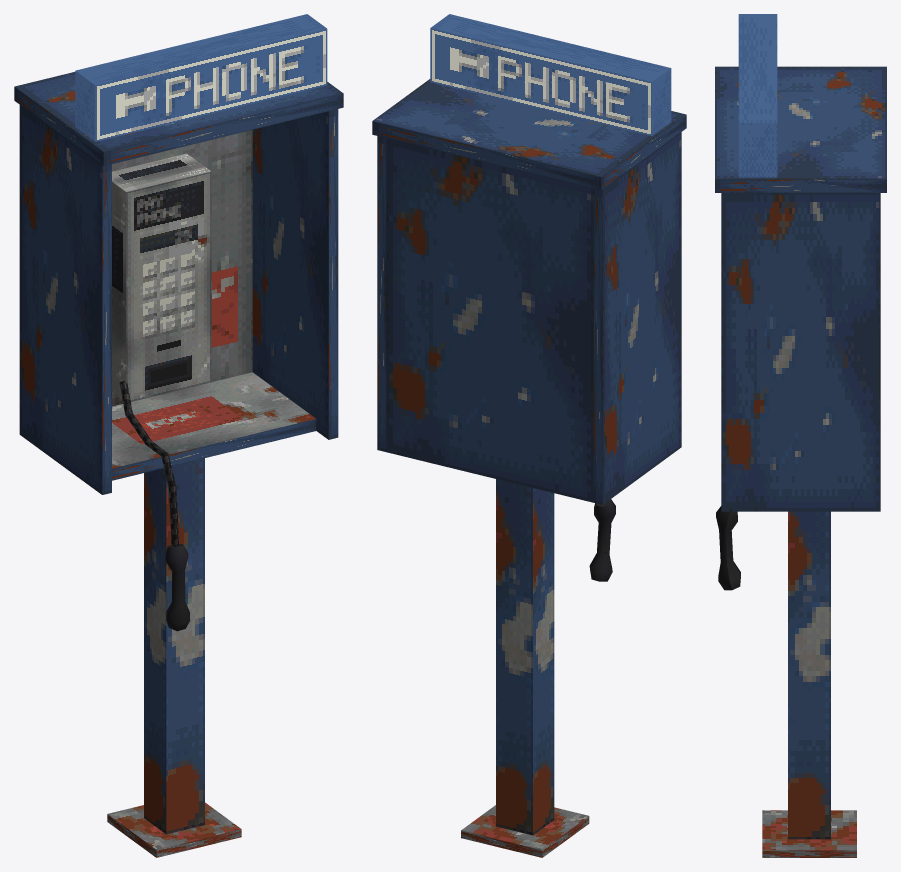
File: payphone.glb
The picture shows the model from 3 angles, left to right: view 1: azimuth 30°, elevation 25°; view 2: azimuth 150°, elevation 25°; view 3: azimuth 270°, elevation 25°; orthographic projection. The views are drawn at different scales.
Parts seen in each view (by area): view 1: payphone; view 2: payphone; view 3: payphone.
Boxes of the visible parts, x1=… form: payphone: x1=14, y1=14, x2=343, y2=857; payphone: x1=372, y1=14, x2=686, y2=857; payphone: x1=715, y1=14, x2=886, y2=857.
Bounding box in the file's own units: 0.62 × 1.98 × 0.4.
2 materials, 2 textured.
